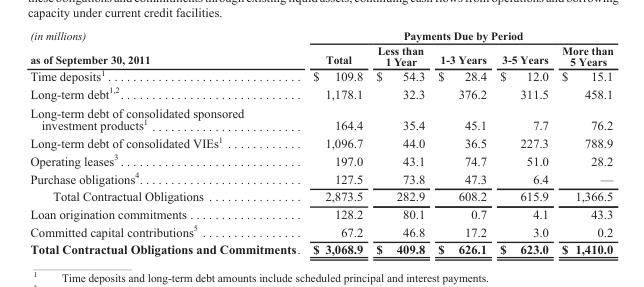table: (29, 28, 612, 256)
table column: (29, 28, 305, 256), (305, 28, 368, 256), (368, 28, 430, 256), (430, 28, 492, 256), (492, 28, 554, 256), (554, 28, 612, 256)
table column header: (29, 28, 612, 67)
table row: (29, 103, 612, 133), (29, 42, 612, 67), (29, 84, 612, 103), (29, 168, 612, 187), (29, 221, 612, 240), (29, 150, 612, 168), (29, 67, 612, 84), (29, 133, 612, 150), (29, 187, 612, 204), (29, 204, 612, 221), (29, 240, 612, 256), (29, 28, 612, 42)
table spanning cell: (29, 28, 305, 67), (305, 28, 612, 42)
